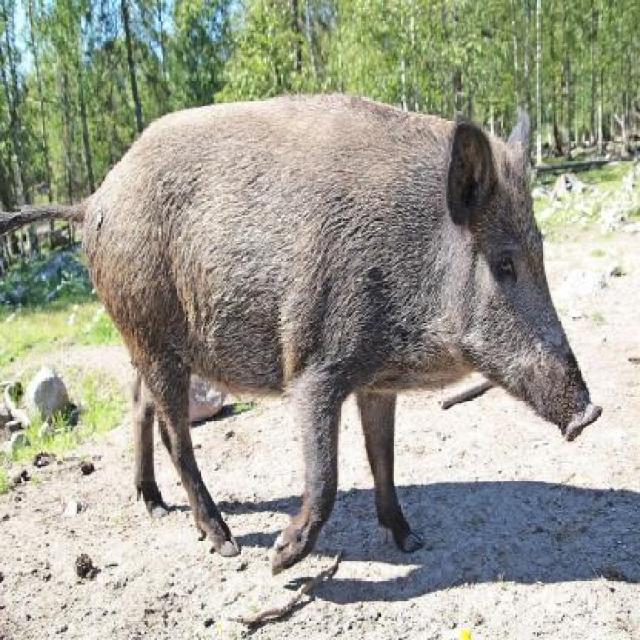wildboar: (0, 89, 605, 582)
